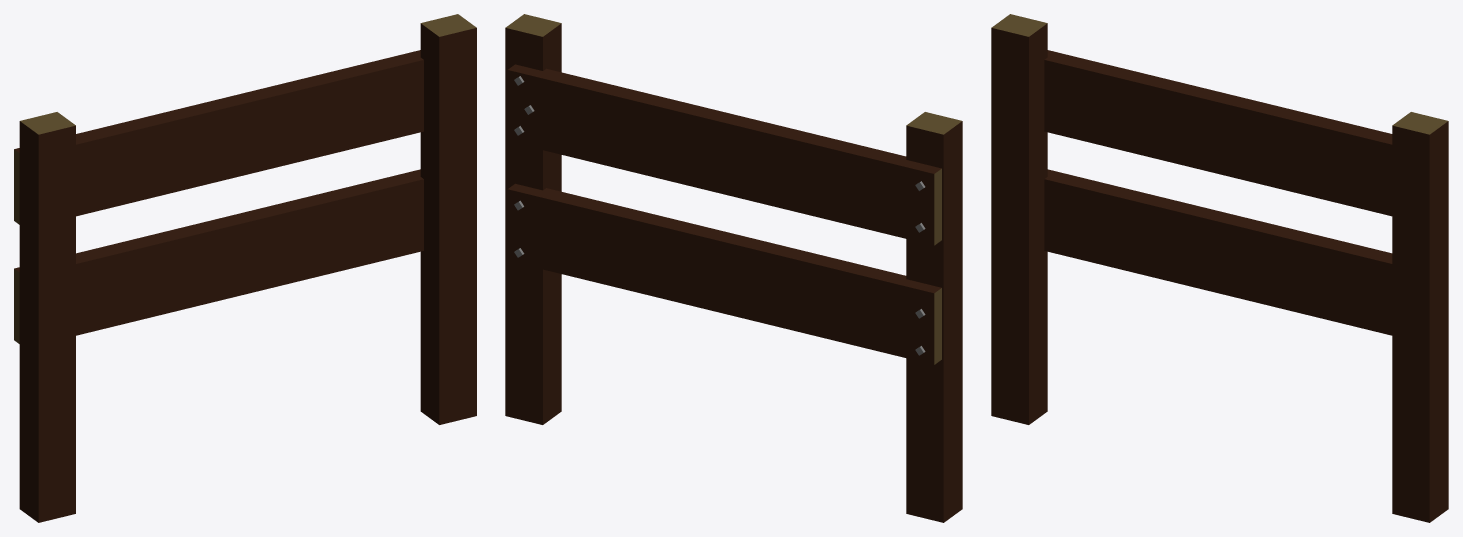
The model's file is fence.fbx.
The picture shows the model from 3 angles, left to right: view 1: azimuth 30°, elevation 25°; view 2: azimuth 150°, elevation 25°; view 3: azimuth 330°, elevation 25°; orthographic projection.
Visible parts, largest first — view 1: polySurface9; view 2: polySurface9; view 3: polySurface9.
Part boxes in pixels (<box>): polySurface9: <box>14,14,476,522</box>; polySurface9: <box>505,14,962,522</box>; polySurface9: <box>991,14,1448,522</box>.
Size of the model in its own units: 3.96 by 3.35 by 0.439.
